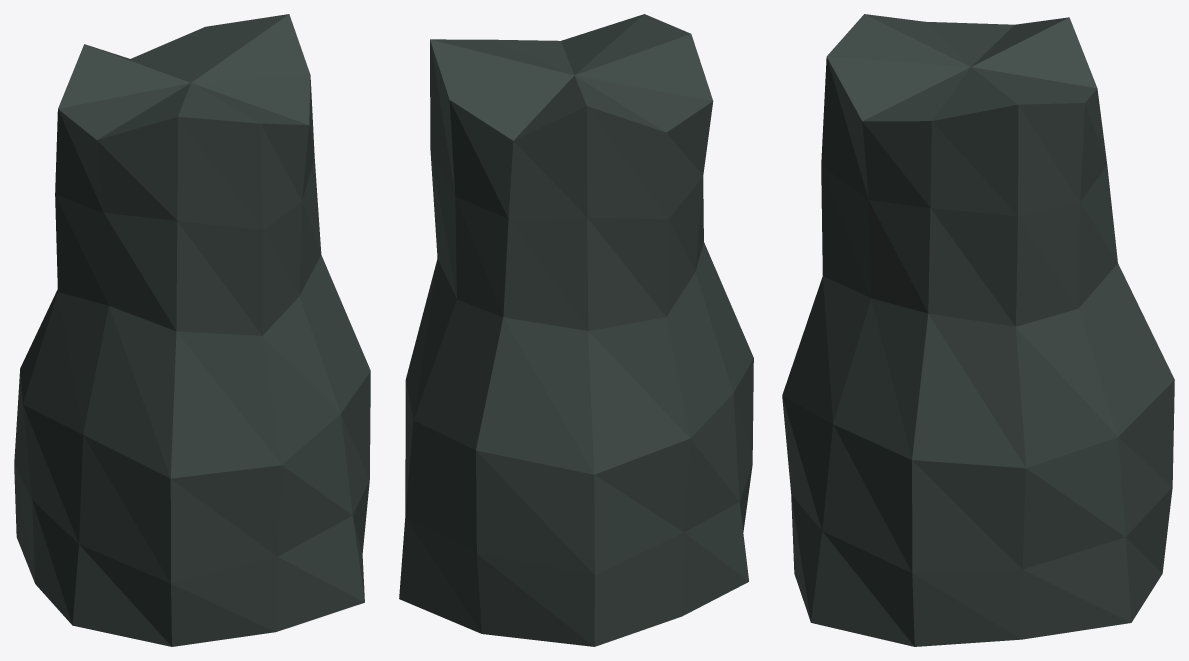
The model's file is visual-far.glb.
The picture shows the model from 3 angles, left to right: view 1: azimuth 30°, elevation 25°; view 2: azimuth 150°, elevation 25°; view 3: azimuth 270°, elevation 25°; orthographic projection. The views are drawn at different scales.
Parts seen in each view (by area): view 1: 破岩形状与干湿色尺寸族; view 2: 破岩形状与干湿色尺寸族; view 3: 破岩形状与干湿色尺寸族.
Boxes of the visible parts, <box> form: 破岩形状与干湿色尺寸族: <box>14,14,370,646</box>; 破岩形状与干湿色尺寸族: <box>399,14,753,646</box>; 破岩形状与干湿色尺寸族: <box>782,14,1174,646</box>.
Bounding box in the file's own units: 2.33 × 4.01 × 2.56.
2 materials, 2 textured.
